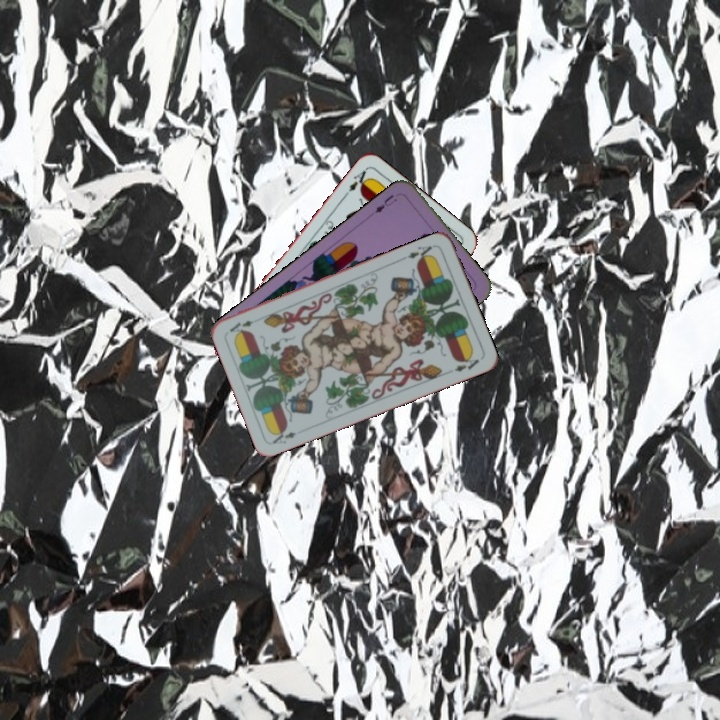EA: (340, 165, 371, 200), (399, 241, 438, 264), (268, 425, 299, 447)
EU: (371, 190, 400, 216)
